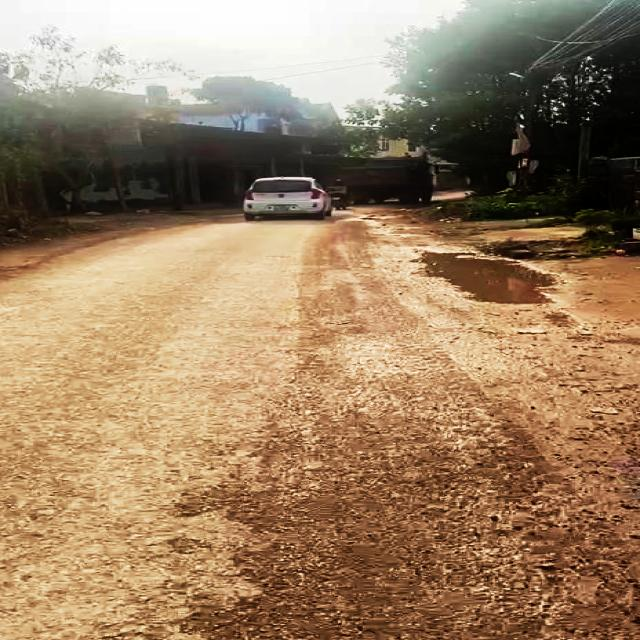pothole: (407, 247, 565, 308)
